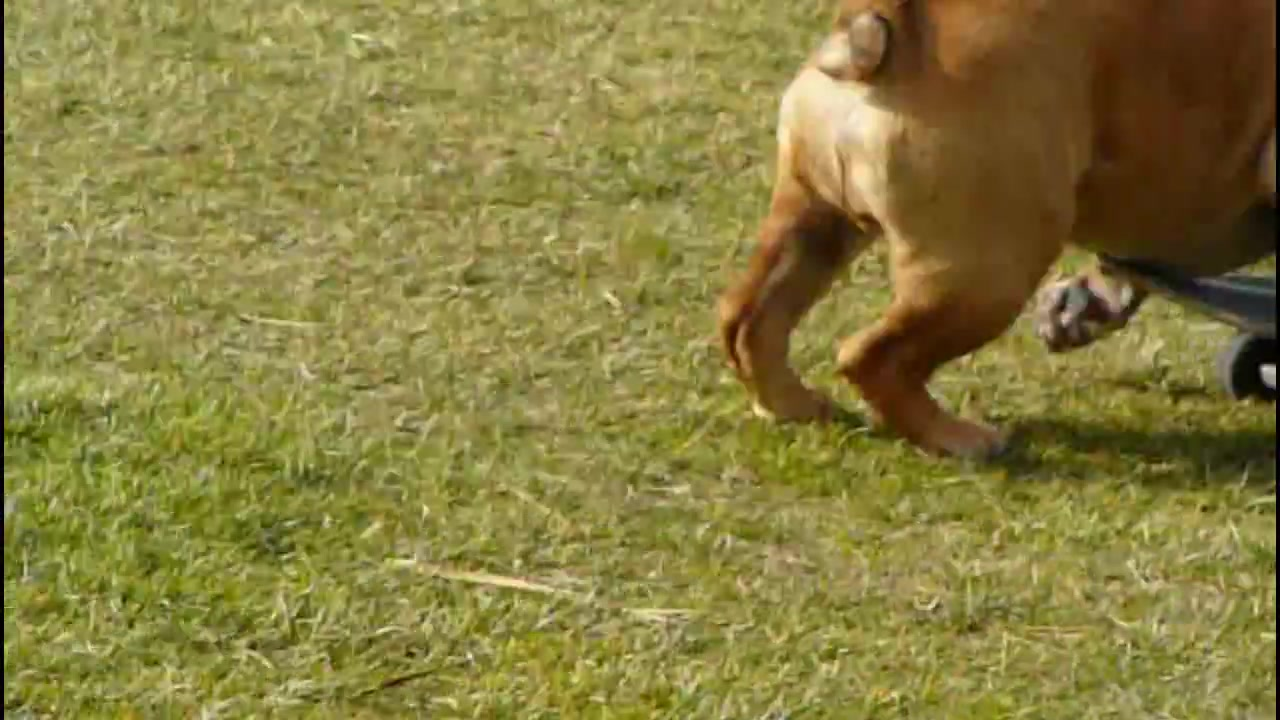dog: (722, 3, 1279, 454)
